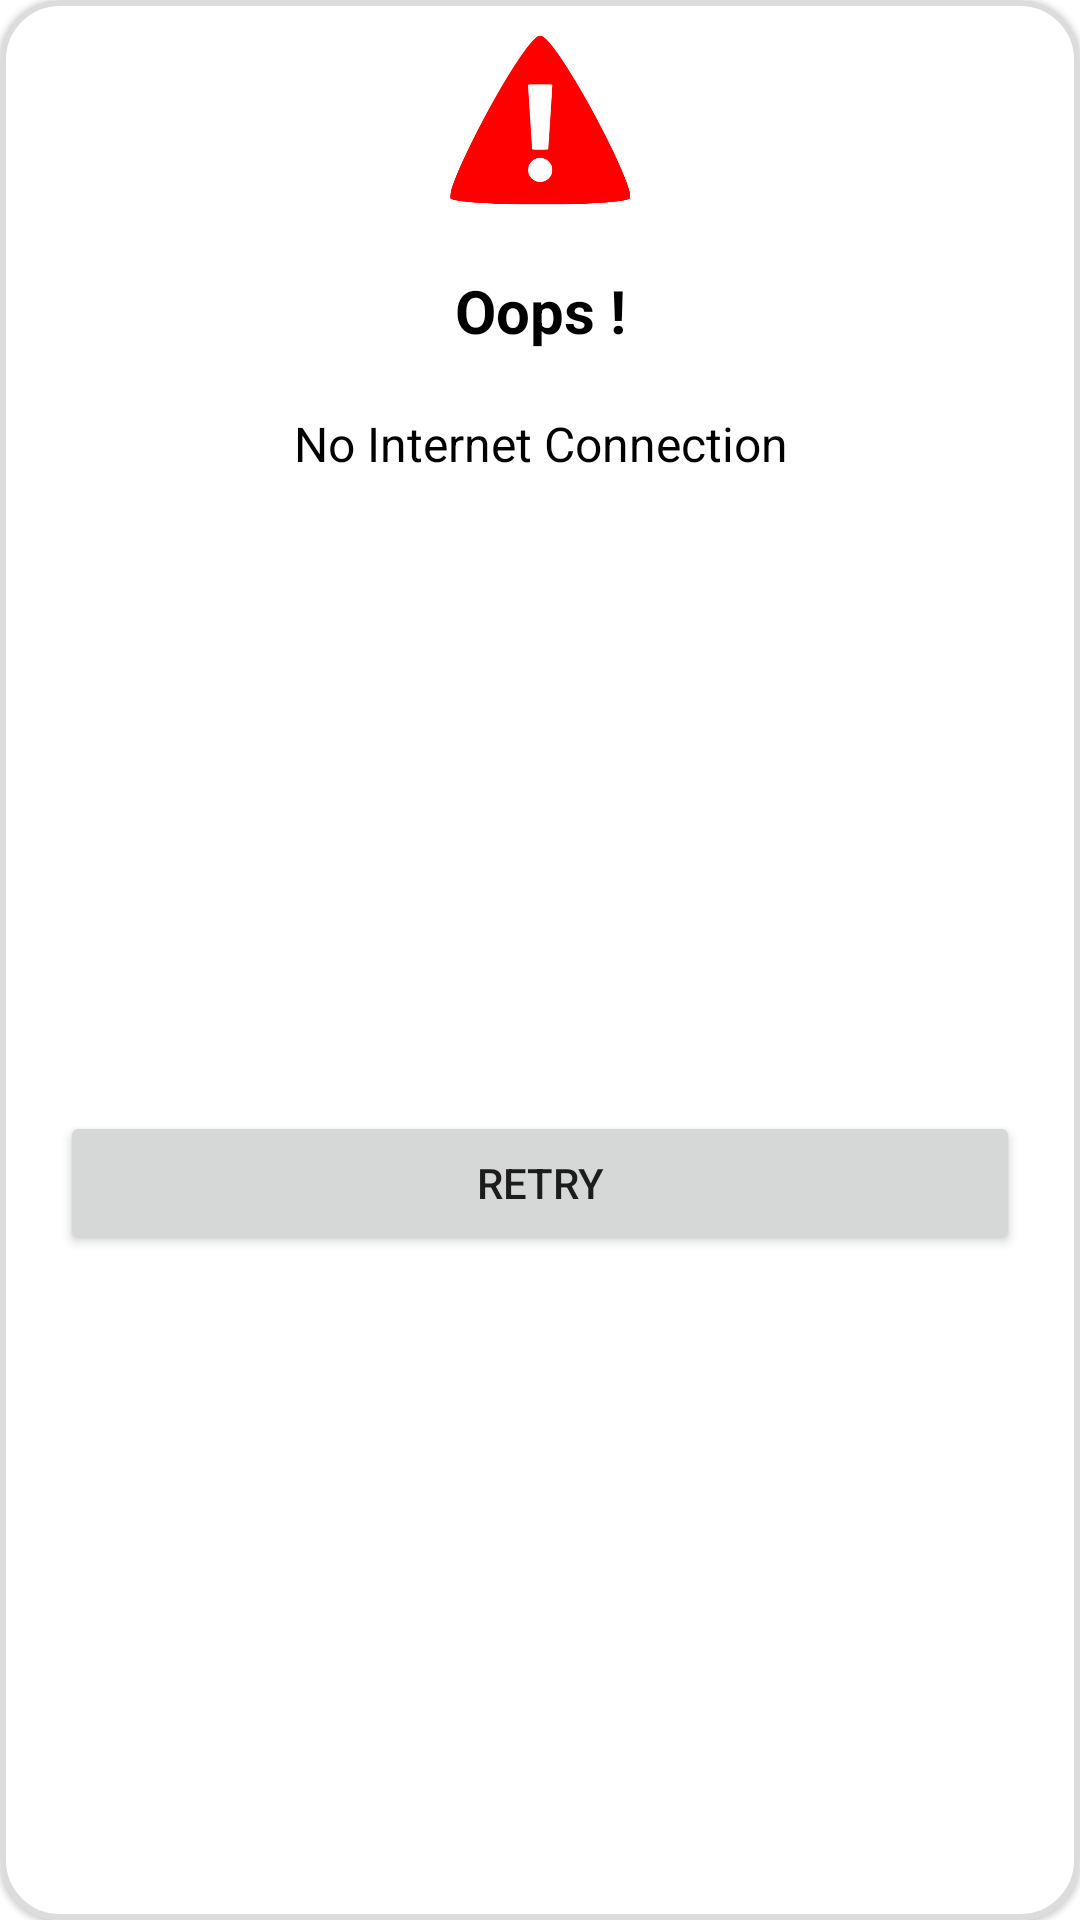

Icons on this 1080 x 1920 Android screen, each with the point to tap as [x,y]:
alert: [540,120]
